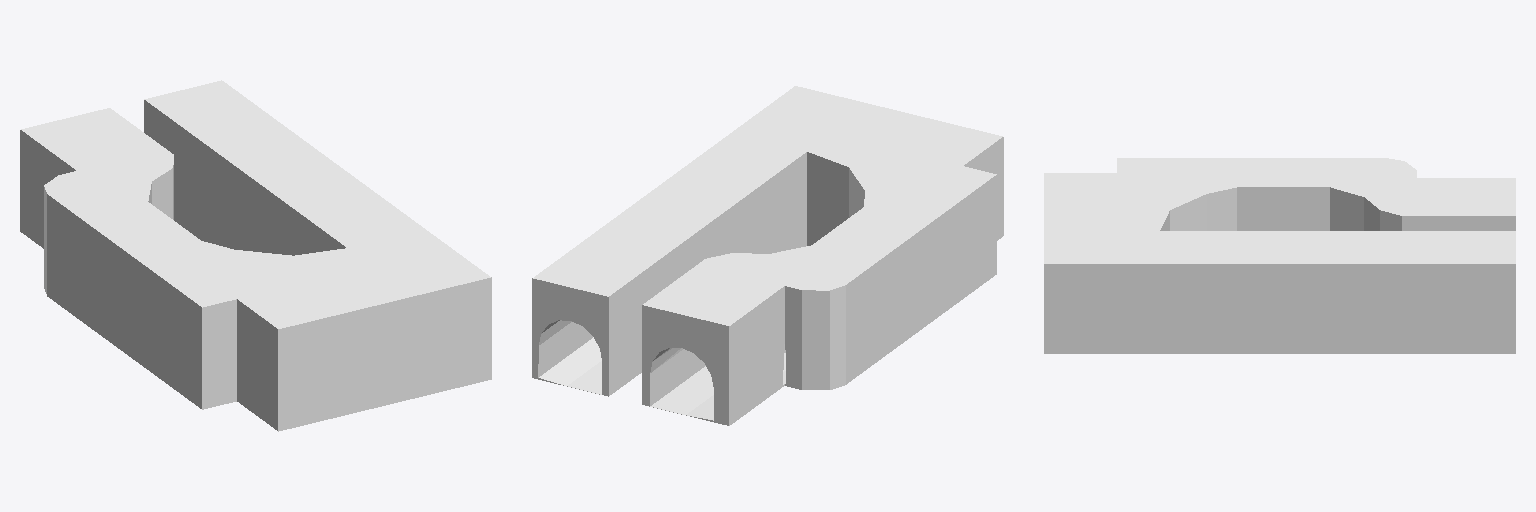
The robot description file, URDF, robot "suidao":
<?xml version="1.0" encoding="utf-8"?>
<!-- This URDF was automatically created by SolidWorks to URDF Exporter! Originally created by Stephen Brawner (brawner@gmail.com) 
     Commit Version: 1.6.0-4-g7f85cfe  Build Version: 1.6.7995.38578
     For more information, please see http://wiki.ros.org/sw_urdf_exporter -->
<robot
  name="suidao">
  <link
    name="base_link">
    <inertial>
      <origin
        xyz="0.825647543996341 -7.45090501936767 2.44773392006916E-05"
        rpy="0 0 0" />
      <mass
        value="19270.2127199609" />
      <inertia
        ixx="364851.157791051"
        ixy="-7673.35157279416"
        ixz="1.85434772742838"
        iyy="102936.607857638"
        iyz="2.76396228005985"
        izz="450341.820369179" />
    </inertial>
    <visual>
      <origin
        xyz="0 0 0"
        rpy="0 0 0" />
      <geometry>
        <mesh
          filename="package://emnv_scene/urdf_models/suidao/meshes/suidao.STL" />
      </geometry>
      <material
        name="">
        <color
          rgba="1 1 1 1" />
      </material>
    </visual>
    <collision>
      <origin
        xyz="0 0 0"
        rpy="0 0 0" />
      <geometry>
        <mesh
          filename="package://emnv_scene/urdf_models/suidao/meshes/suidao.STL" />
      </geometry>
    </collision>
  </link>
</robot>

--- Facts derived from the render (not from the file) ---
The picture shows the robot from 3 angles, left to right: view 1: azimuth 30°, elevation 25°; view 2: azimuth 150°, elevation 25°; view 3: azimuth 270°, elevation 25°; orthographic projection.
Robot: suidao — 1 links, 0 joints (none); root link base_link; default pose: every joint at zero.
Links seen in each view (by area): view 1: base_link; view 2: base_link; view 3: base_link.
Link boxes in pixels (<box>): base_link: <box>20,80,491,431</box>; base_link: <box>532,86,1003,425</box>; base_link: <box>1044,158,1515,353</box>.
Size in the robot's own frame: 7.61 by 14.32 by 3 metres.
Meshes: 1 distinct files referenced, 1 mesh visuals loaded (1 binary STL).
